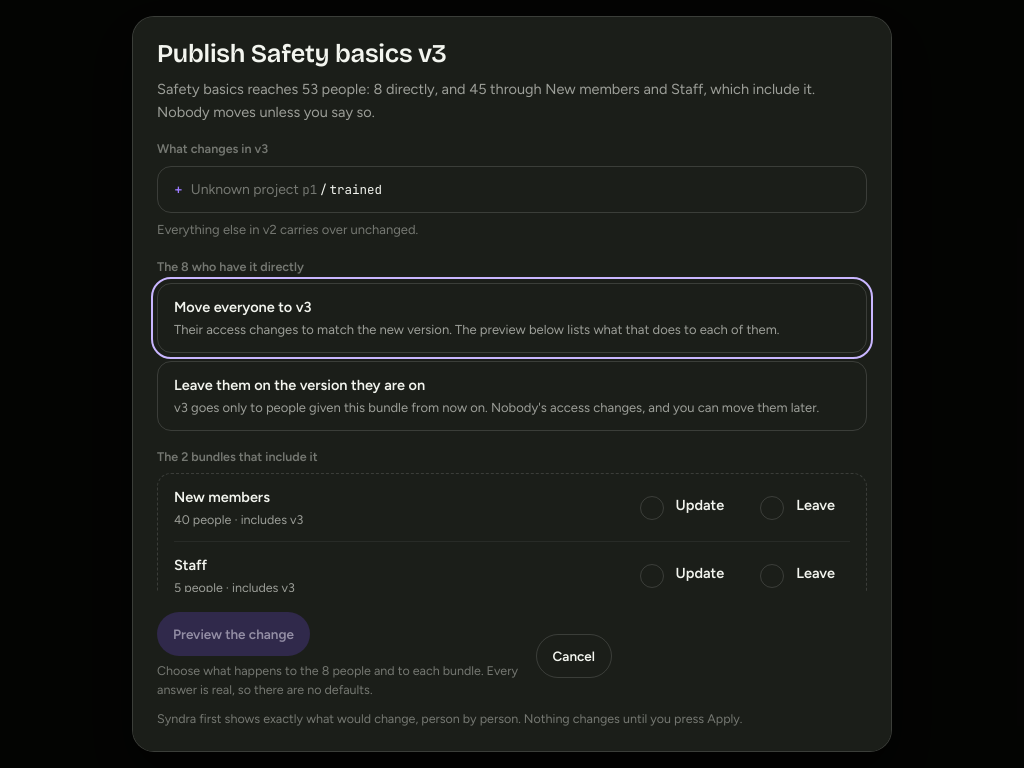
Test: PublishVersionDialog · bundles that include it › keeps Preview disabled until every bundle is answered
Click the text "Move everyone to v3" at {"x": 243, "y": 307}, box [174, 298, 312, 316]
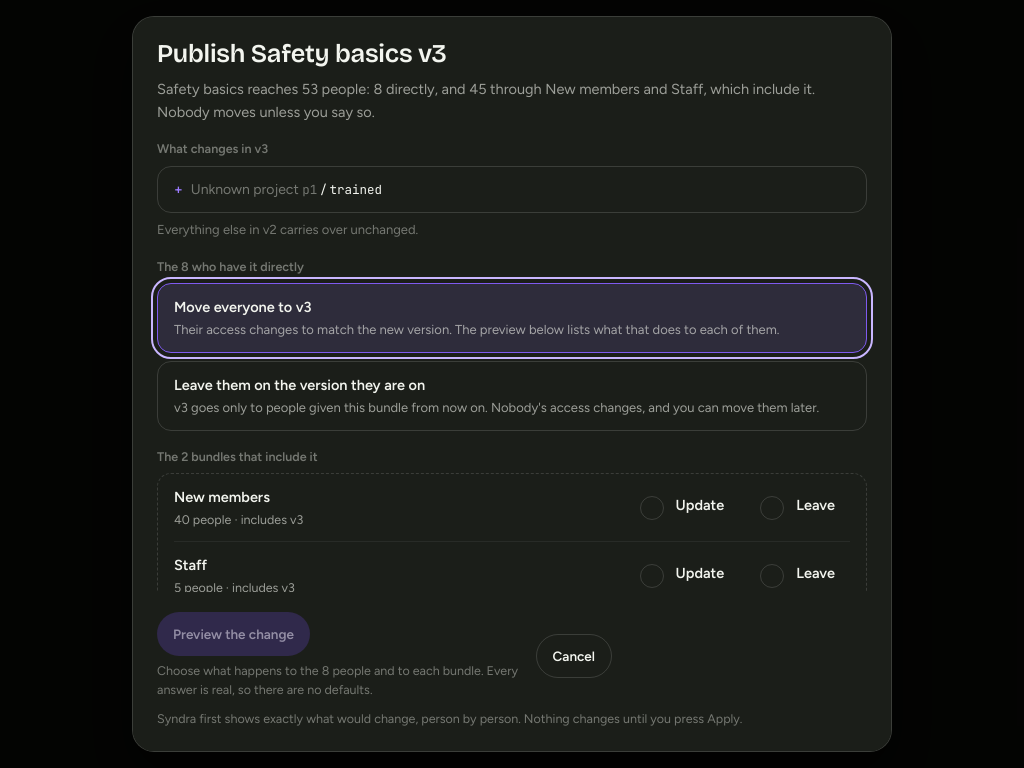
Expected: the button "Preview the change" is disabled, [157, 613, 310, 657]
Click the radio button labelled "Update" in the row of "40 people" at {"x": 682, "y": 508}, box [640, 496, 724, 520]
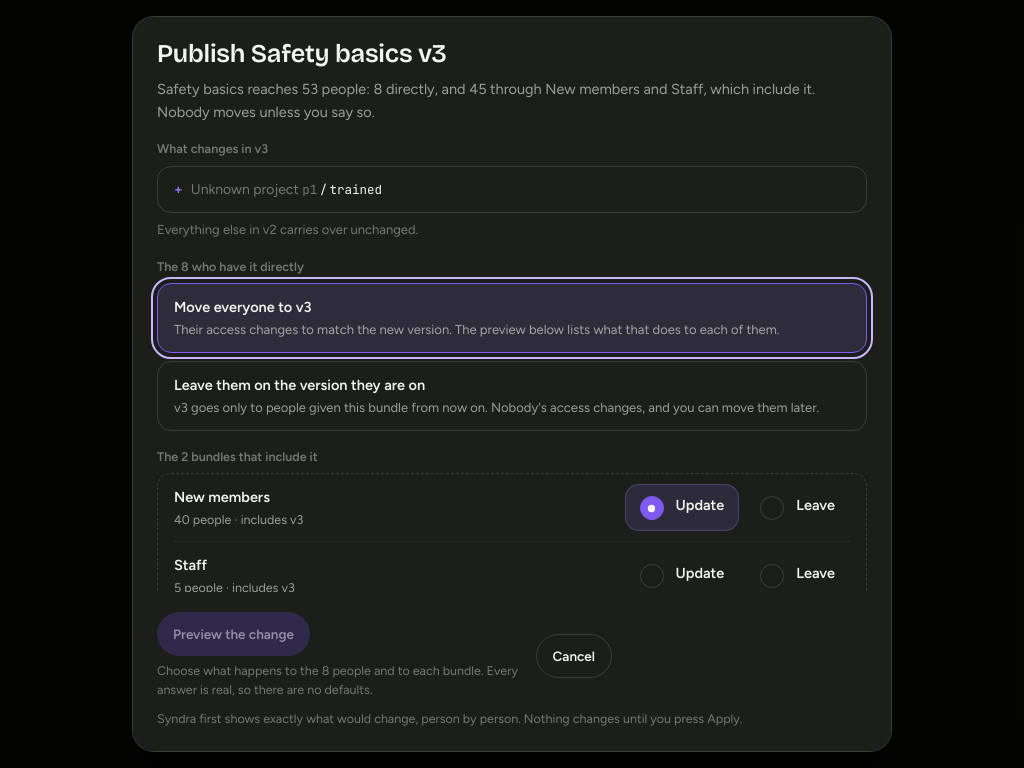
Expected: the button "Preview the change" is disabled, [157, 613, 310, 657]
Click the radio button labelled "Leave" in the row of "5 people" at {"x": 798, "y": 576}, box [760, 564, 835, 588]
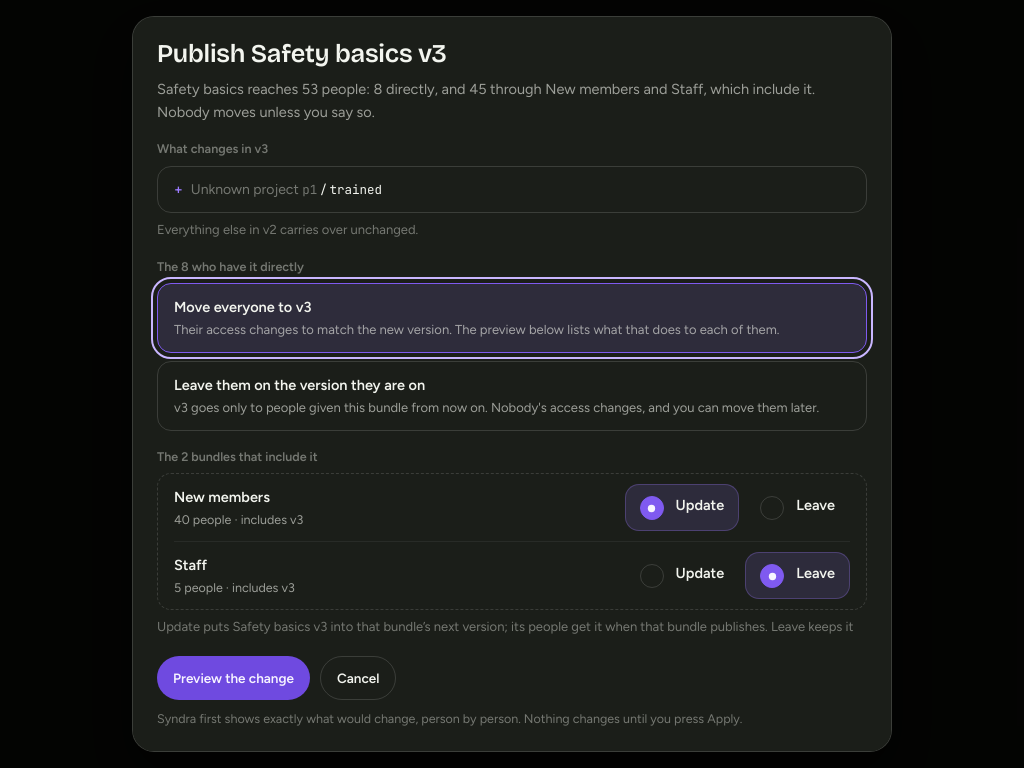
Now the button "Preview the change" is enabled, box [157, 656, 310, 700]
